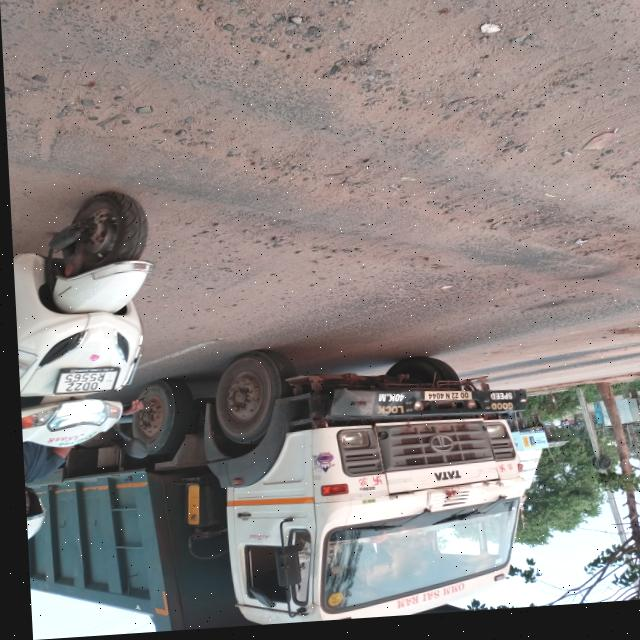plate: (47, 365, 121, 398), (419, 394, 466, 409)
